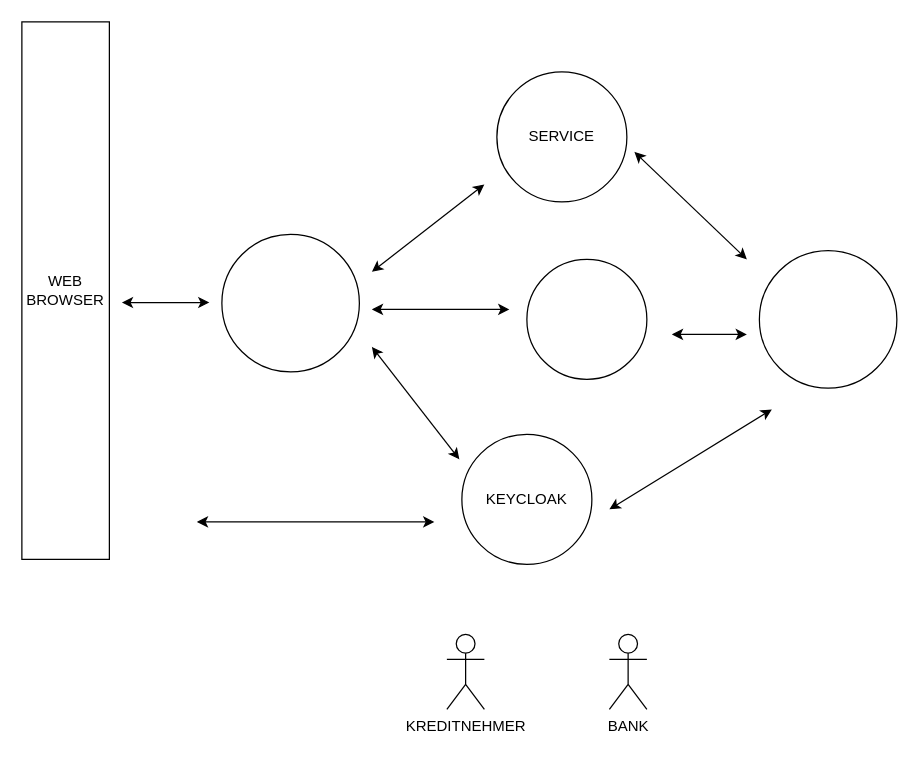
Image size: 919x758. Some labels were removed from this diagram. Here are the shapes that lost their labels. From the top down, the centre of each, then its label:
(x=290, y=302): ANGULAR
(x=586, y=318): Camunda
(x=827, y=318): DATENBANK
